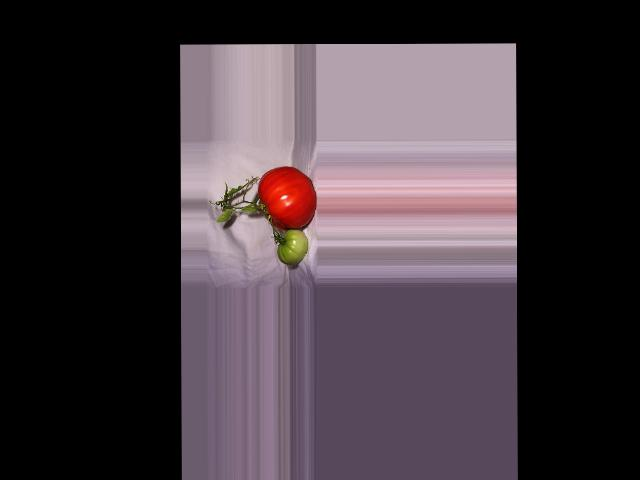tomato: (257, 166, 316, 230)
